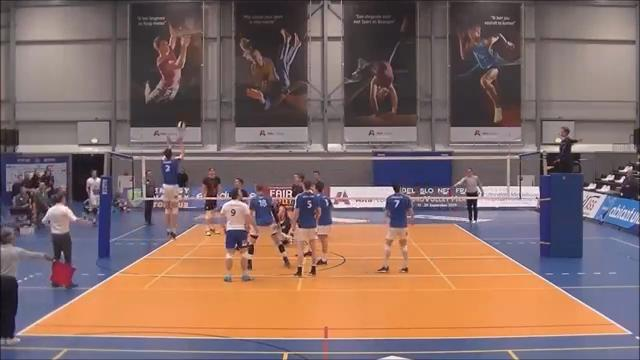Attack: (157, 132, 189, 243)
Player: (248, 185, 289, 269), (220, 188, 255, 281), (378, 185, 413, 272), (292, 180, 320, 276), (315, 181, 332, 264), (276, 203, 292, 244), (201, 168, 220, 197), (234, 177, 248, 203), (291, 173, 304, 198)
ball: (176, 121, 188, 131)
